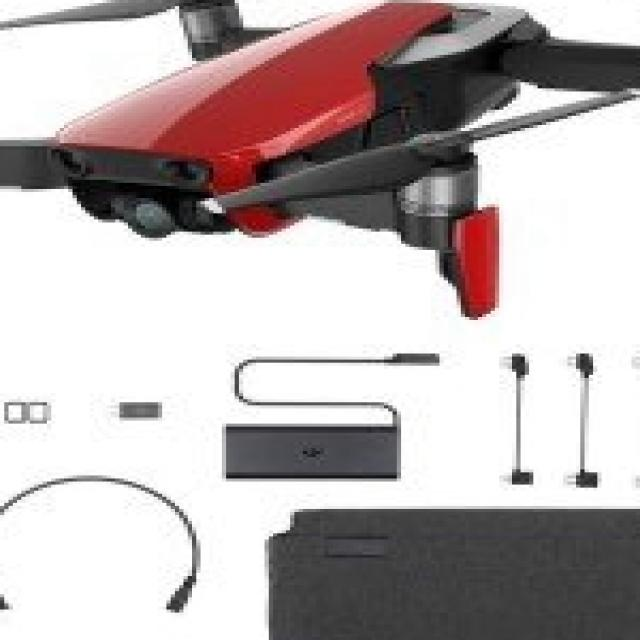drone: (0, 0, 640, 302)
